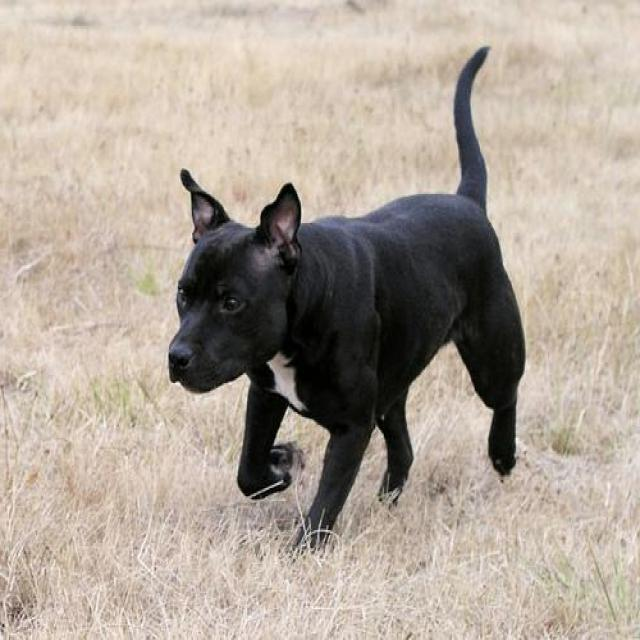staffordshire_bullterrier: (167, 42, 528, 561)
